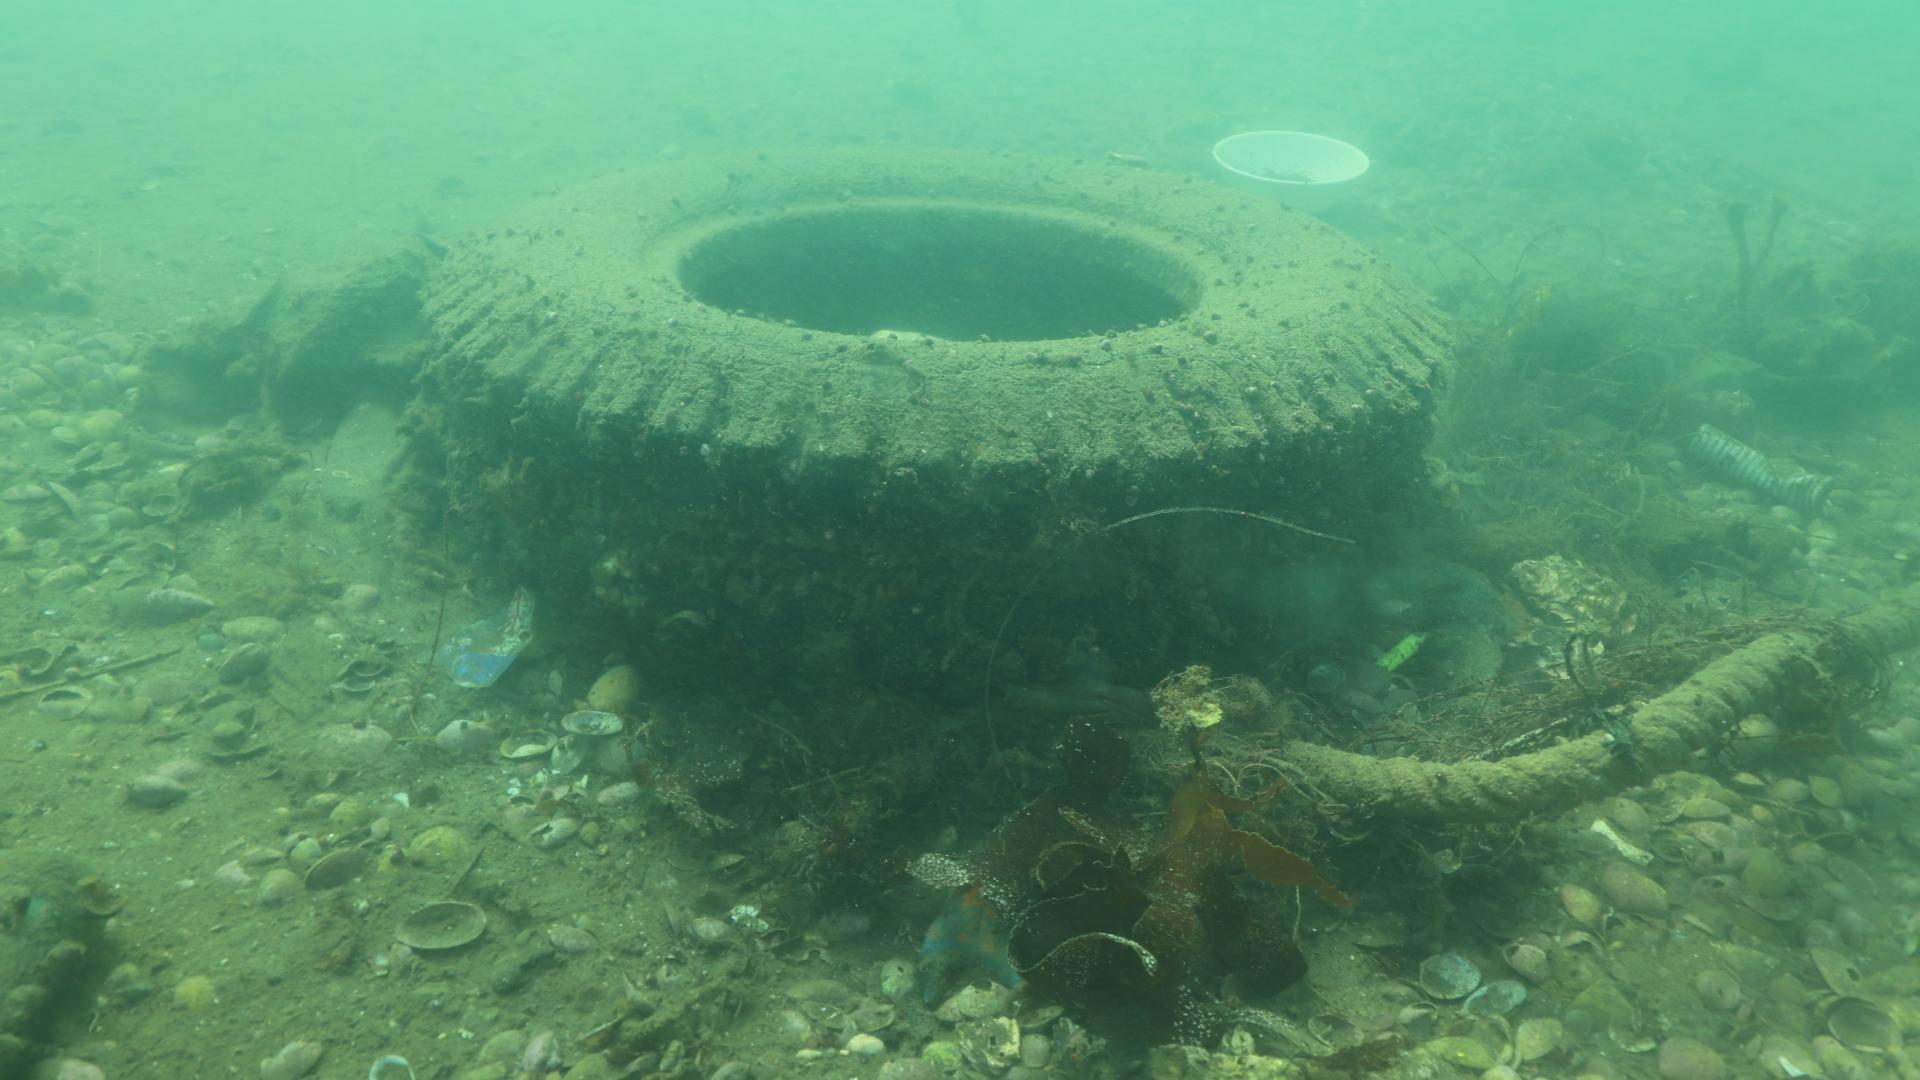rope: (1249, 585, 1920, 825)
tire: (418, 141, 1455, 702)
